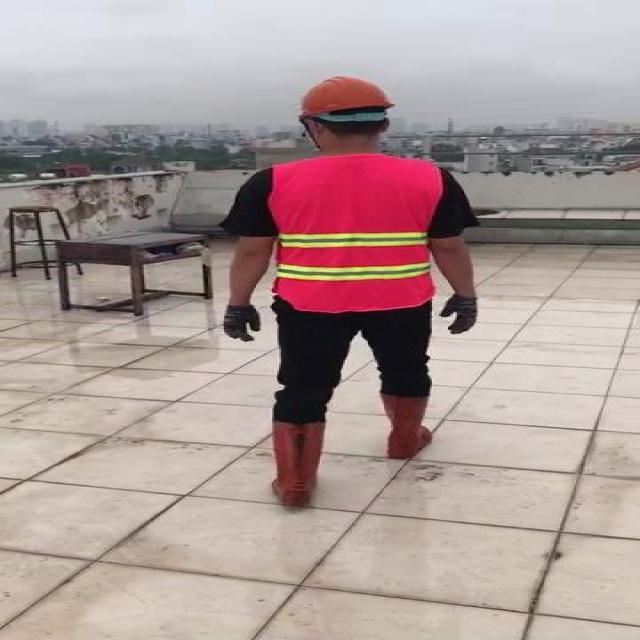boots: (263, 418, 327, 510), (372, 393, 434, 459)
hand_glove: (439, 293, 482, 334), (220, 302, 262, 342)
head_helmet: (292, 74, 398, 116)
person: (196, 66, 492, 522)
vest: (270, 151, 441, 313)
